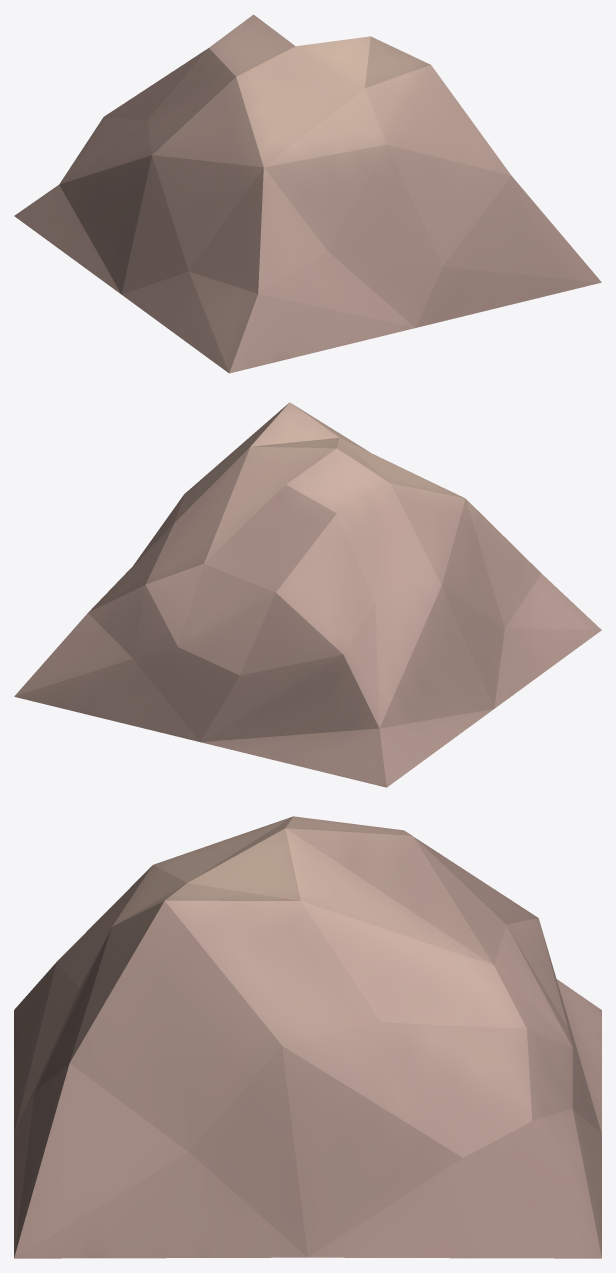
Rendered from Rocher_E.FBX.
3 views of the same model, one above another, from view 1: azimuth 30°, elevation 25°; view 2: azimuth 150°, elevation 25°; view 3: azimuth 270°, elevation 25° (orthographic). The views are drawn at different scales.
Visible parts, largest first — view 1: Rocher_E; view 2: Rocher_E; view 3: Rocher_E.
Part boxes in pixels (left/top/right/bottom): Rocher_E: left=14, top=14, right=601, bottom=373; Rocher_E: left=14, top=402, right=601, bottom=787; Rocher_E: left=14, top=816, right=601, bottom=1258.
Size of the model in its own units: 2 by 1.1 by 2.
